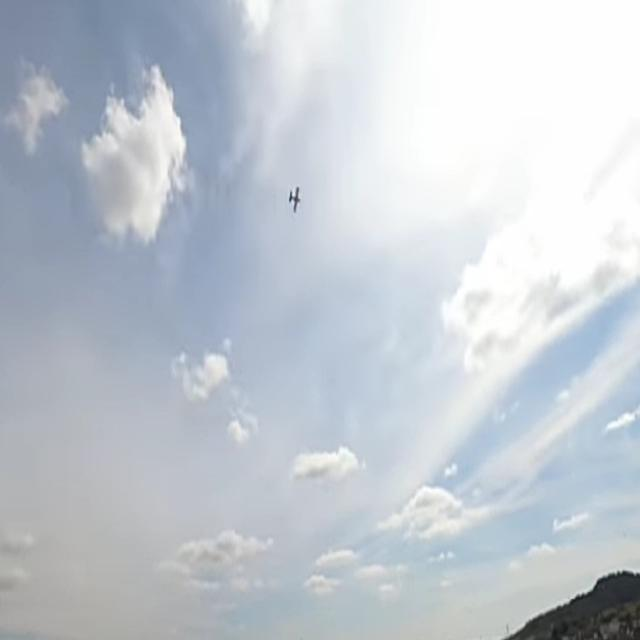iha: (289, 177, 301, 207)
